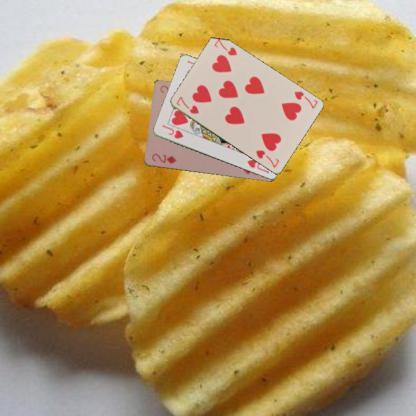2d: (148, 151, 178, 166)
7h: (173, 94, 200, 116), (291, 88, 318, 110)
Jh: (160, 122, 184, 140)
